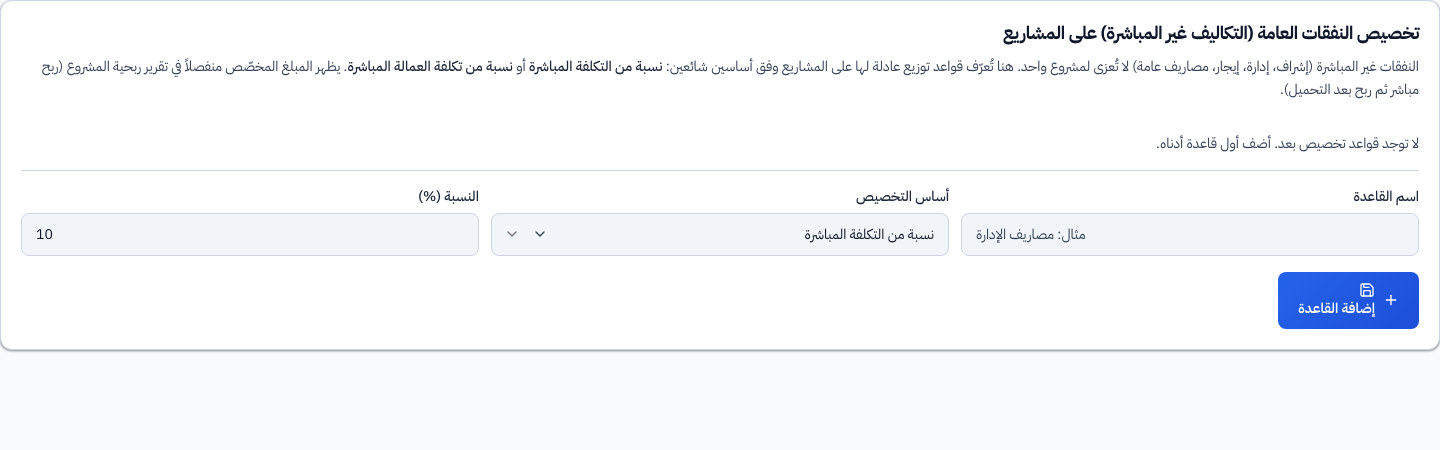
Test case: OverheadSettings › adds a rule and shows the toast
Check: the text "لا توجد قواعد تخصيص بعد. أضف أول قاعدة أدناه." is shown, box [1156,133,1419,154]
Type "قاعدة جديدة" into the field labelled "اسم القاعدة" at (1190, 234), box [961,213,1419,256]
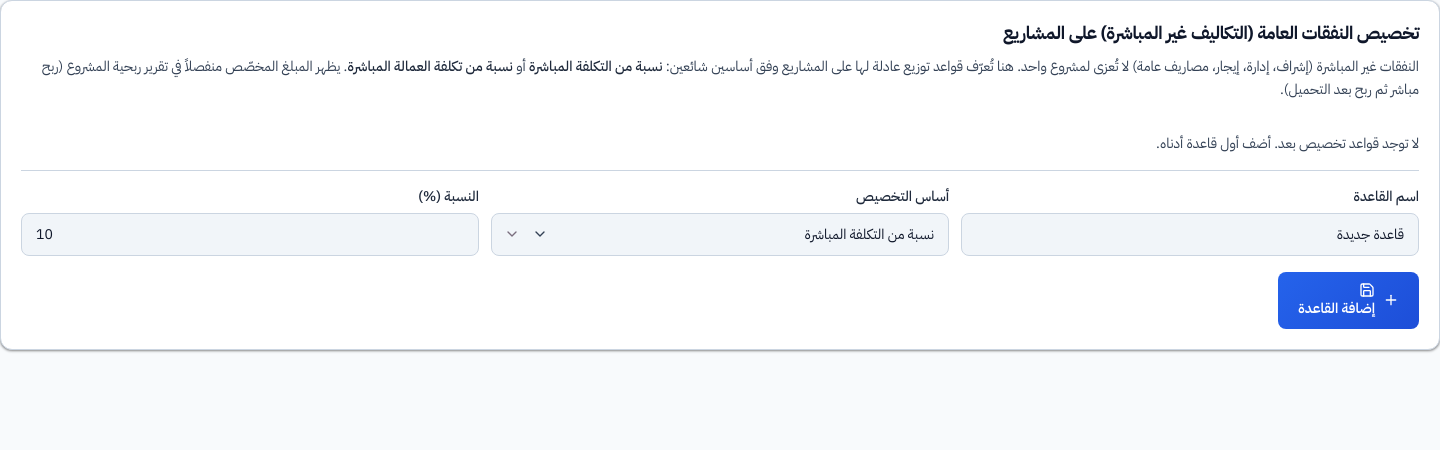
Replace the text in the number field labelled "النسبة (%)" with "15" at (250, 234), box [21,213,479,256]
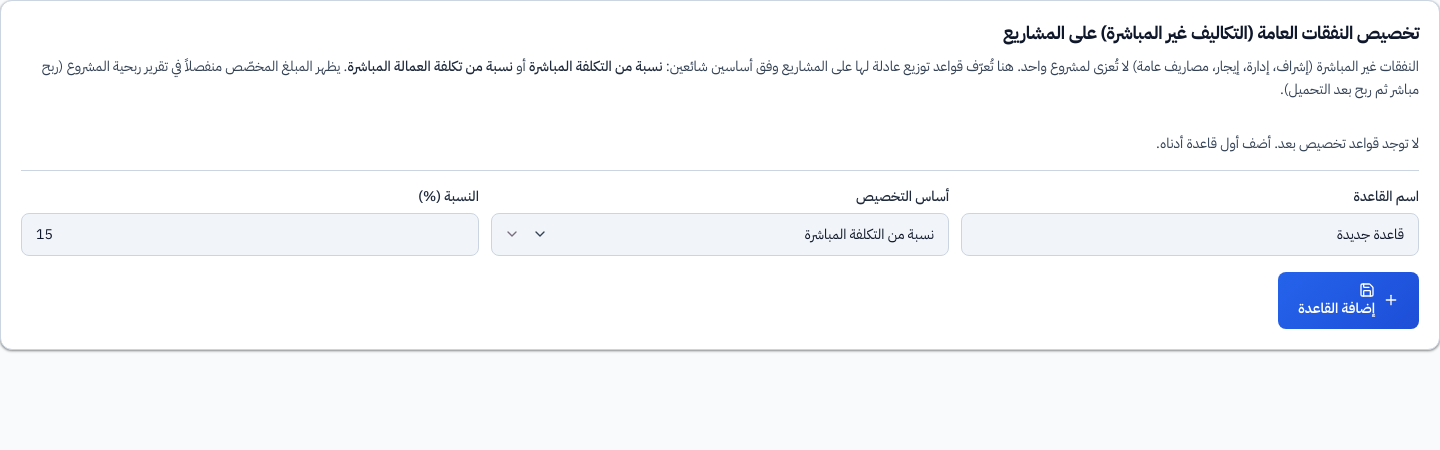
Click the button "إضافة القاعدة" at (1349, 300), box [1278,272,1419,329]
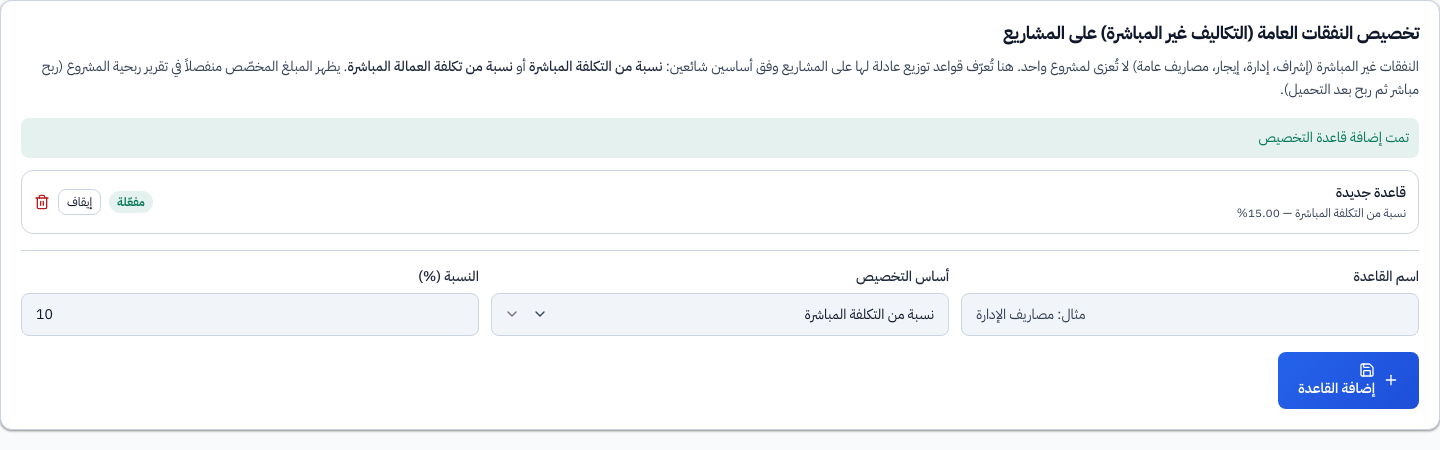
Check: the text "قاعدة جديدة" is shown, box [1336,182,1406,203]
Check: the text "تمت إضافة قاعدة التخصيص" is shown, box [21,118,1419,158]
